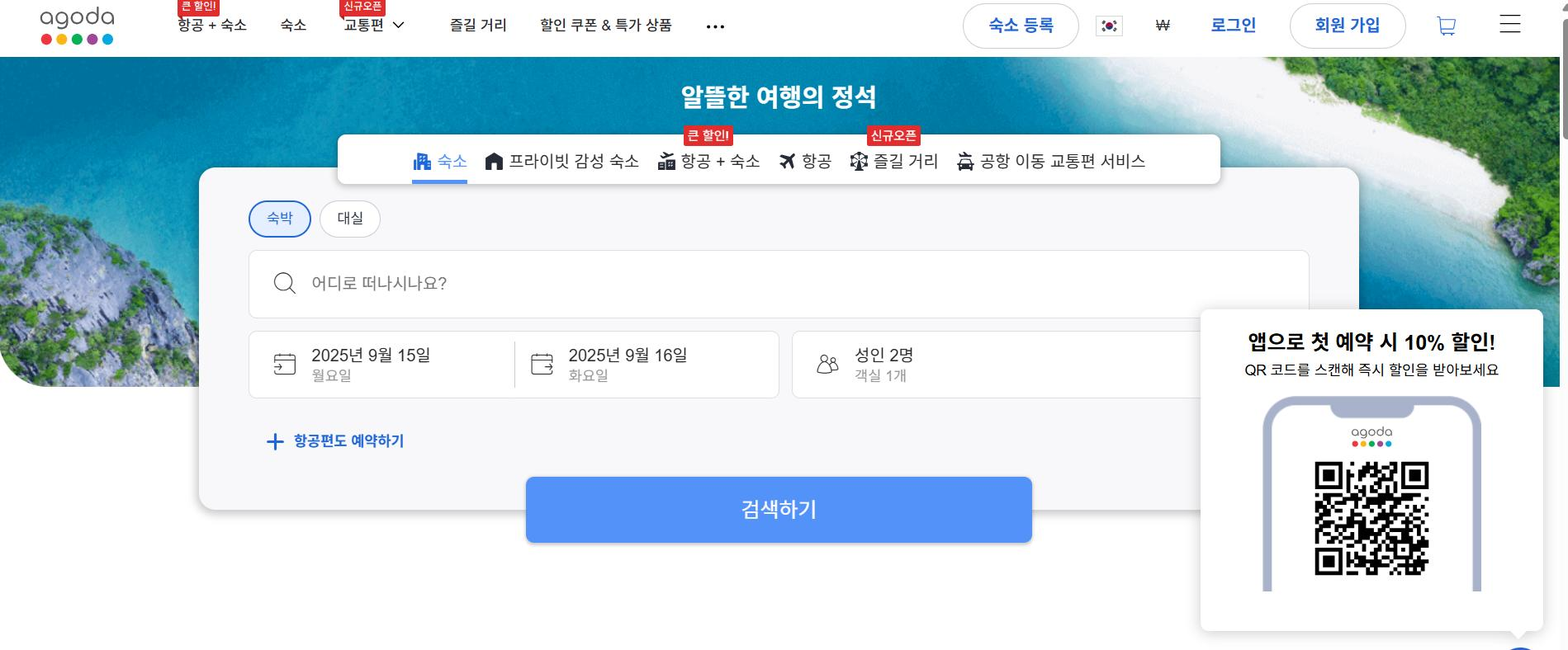button: (524, 474, 1035, 545), (261, 331, 490, 391), (541, 329, 738, 384), (812, 341, 966, 398), (950, 138, 1162, 170), (486, 143, 641, 183), (1285, 2, 1417, 46), (964, 0, 1073, 48), (653, 139, 762, 178), (528, 11, 681, 38), (259, 432, 412, 455), (395, 141, 469, 181), (165, 1, 243, 38), (852, 140, 939, 171), (250, 201, 312, 240), (320, 201, 383, 238), (445, 9, 514, 41), (263, 0, 312, 40), (1487, 0, 1535, 39), (777, 145, 838, 173), (1209, 12, 1251, 37), (1434, 9, 1463, 36), (1092, 9, 1124, 31), (699, 11, 734, 28)
checkbox: (330, 0, 403, 40)
input_field: (253, 254, 1304, 312)
popup: (1198, 312, 1542, 633)
qr_code: (1316, 463, 1434, 578)
